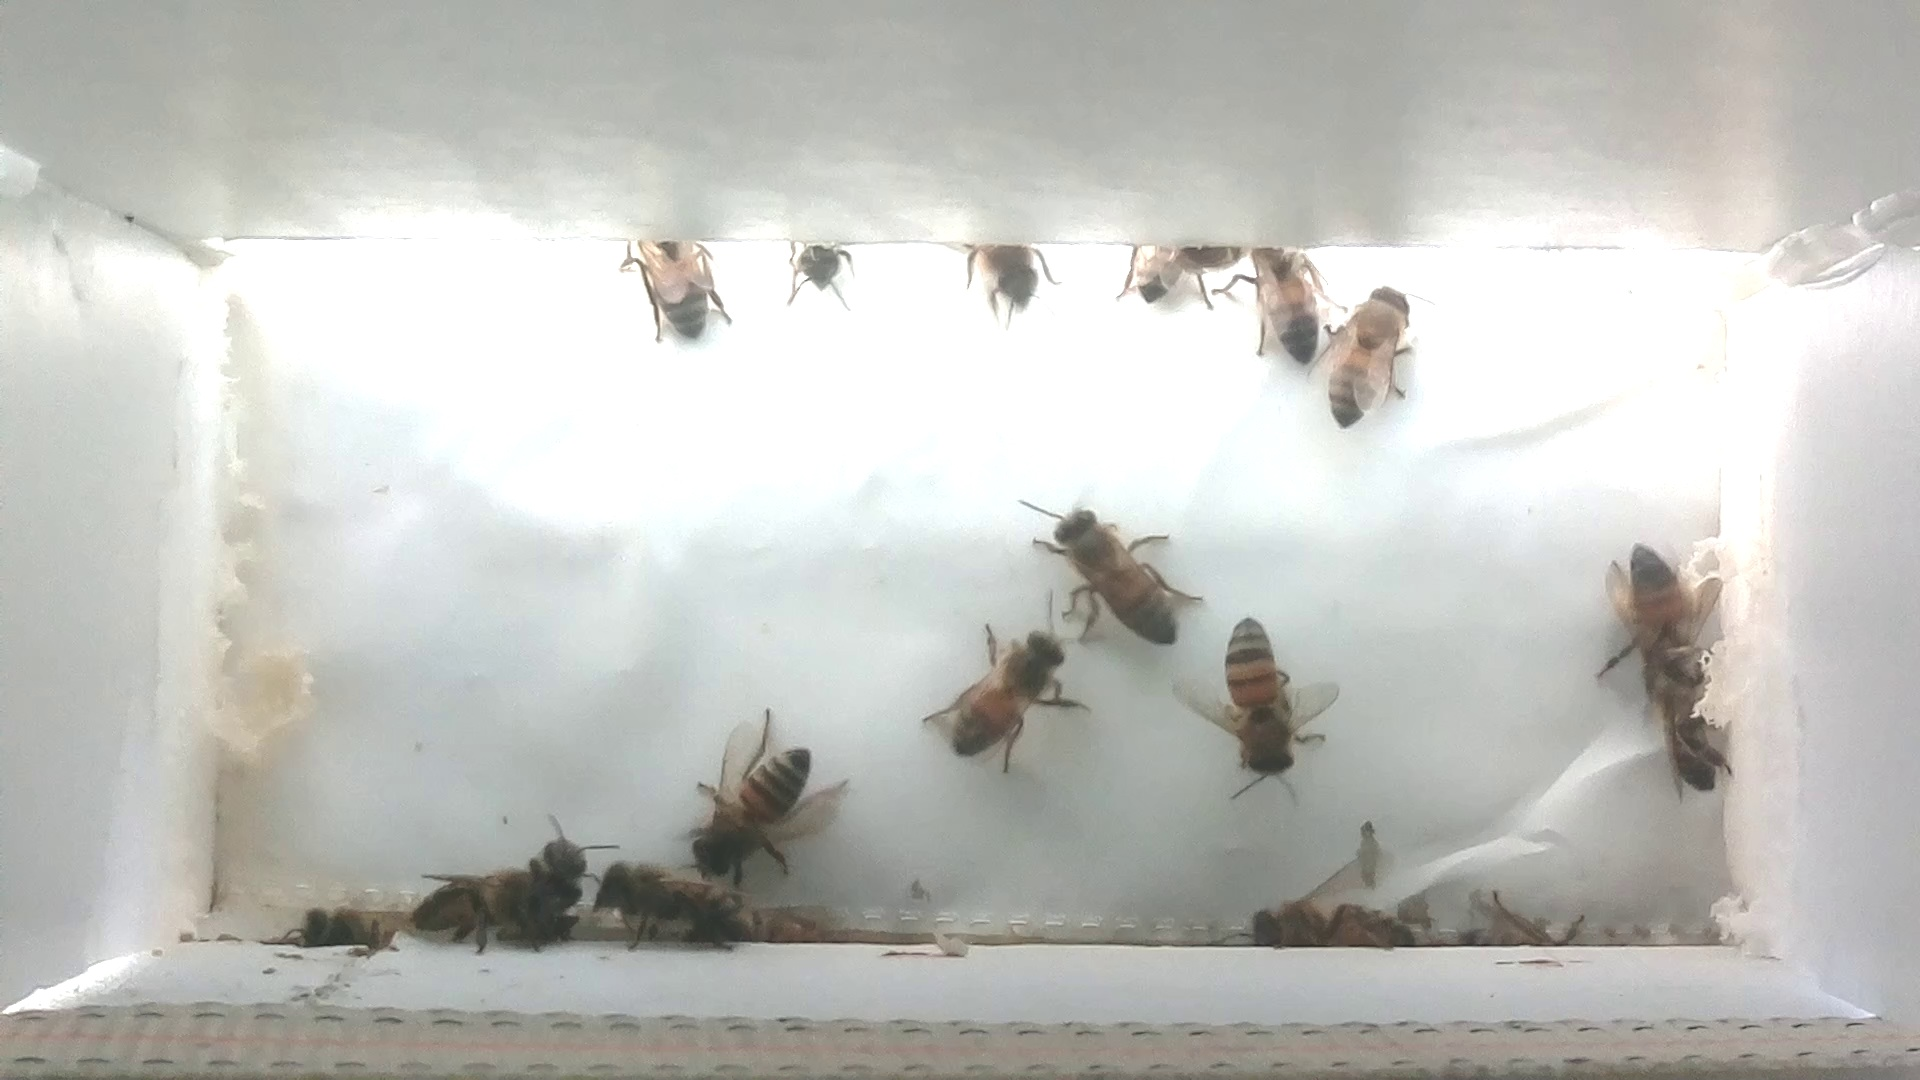bee: (659, 703, 853, 884), (899, 607, 1108, 770), (1178, 615, 1342, 815), (1015, 491, 1213, 651), (1308, 265, 1436, 446), (601, 215, 744, 364), (1598, 538, 1718, 715), (593, 855, 765, 955), (1639, 644, 1739, 811), (1236, 885, 1425, 968), (404, 866, 578, 956), (1221, 239, 1336, 375), (945, 228, 1059, 331), (1110, 233, 1215, 326), (774, 231, 865, 318), (285, 895, 394, 956), (529, 828, 597, 881)
